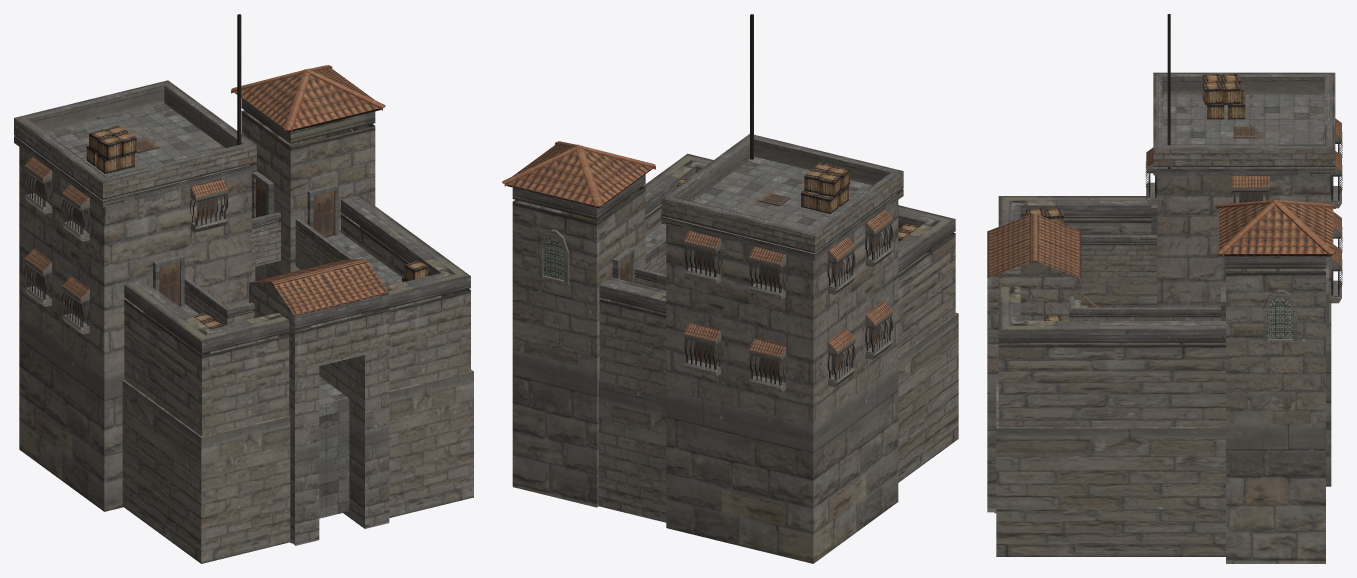
Rendered from barracks.dae.
The picture shows the model from 3 angles, left to right: view 1: azimuth 30°, elevation 25°; view 2: azimuth 150°, elevation 25°; view 3: azimuth 270°, elevation 25°; orthographic projection. The views are drawn at different scales.
Parts seen in each view (by area): view 1: Barracks; view 2: Barracks; view 3: Barracks.
Part boxes in pixels (x1,y1,x2,y2): Barracks: (14,14,473,563); Barracks: (502,14,958,563); Barracks: (987,14,1342,563).
Bounding box in the file's own units: 28.59 × 26.69 × 38.82.
